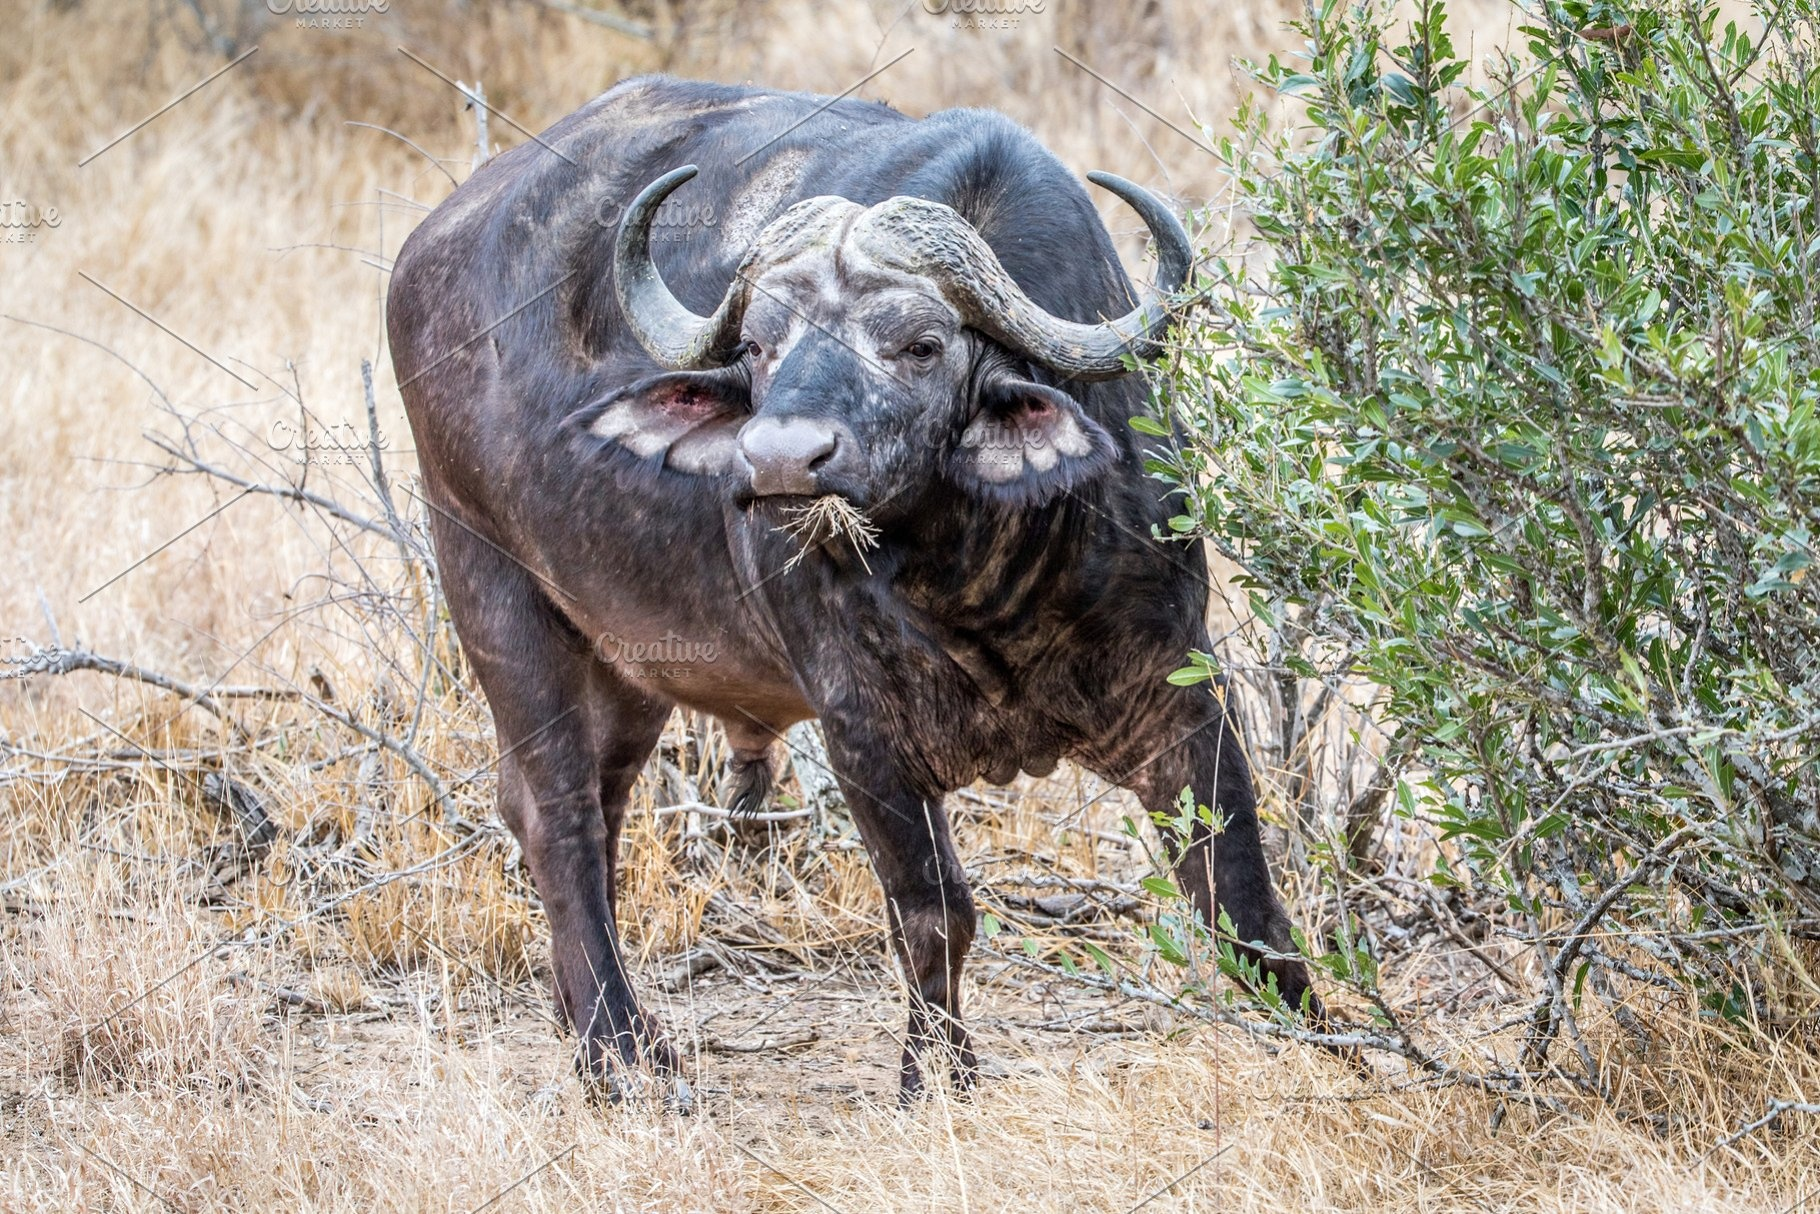buffalo: (378, 68, 1360, 1104)
